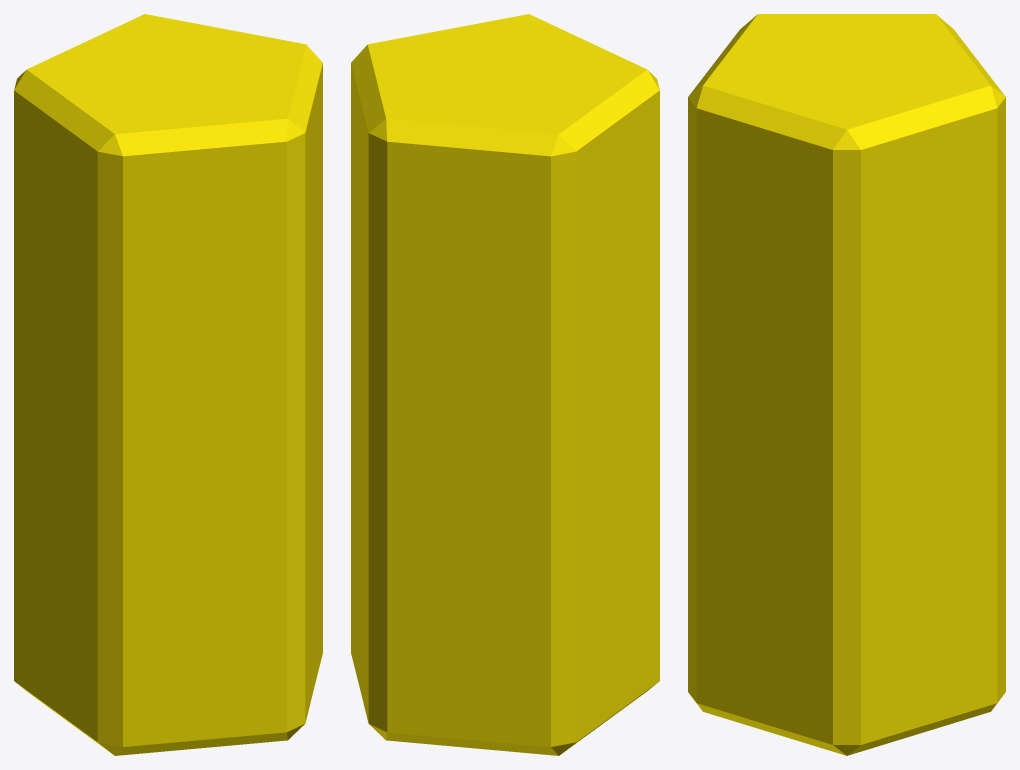
The model's file is Penta_Platform_Straight.FBX.
The picture shows the model from 3 angles, left to right: view 1: azimuth 30°, elevation 25°; view 2: azimuth 150°, elevation 25°; view 3: azimuth 270°, elevation 25°; orthographic projection.
Parts seen in each view (by area): view 1: Penta_Platform_Straight; view 2: Penta_Platform_Straight; view 3: Penta_Platform_Straight.
Part boxes in pixels (box(x1,y1,x2,y2)): Penta_Platform_Straight: box(14, 14, 322, 755); Penta_Platform_Straight: box(351, 14, 659, 755); Penta_Platform_Straight: box(688, 14, 1005, 755).
Bounding box in the file's own units: 87.51 × 200 × 92.02.
